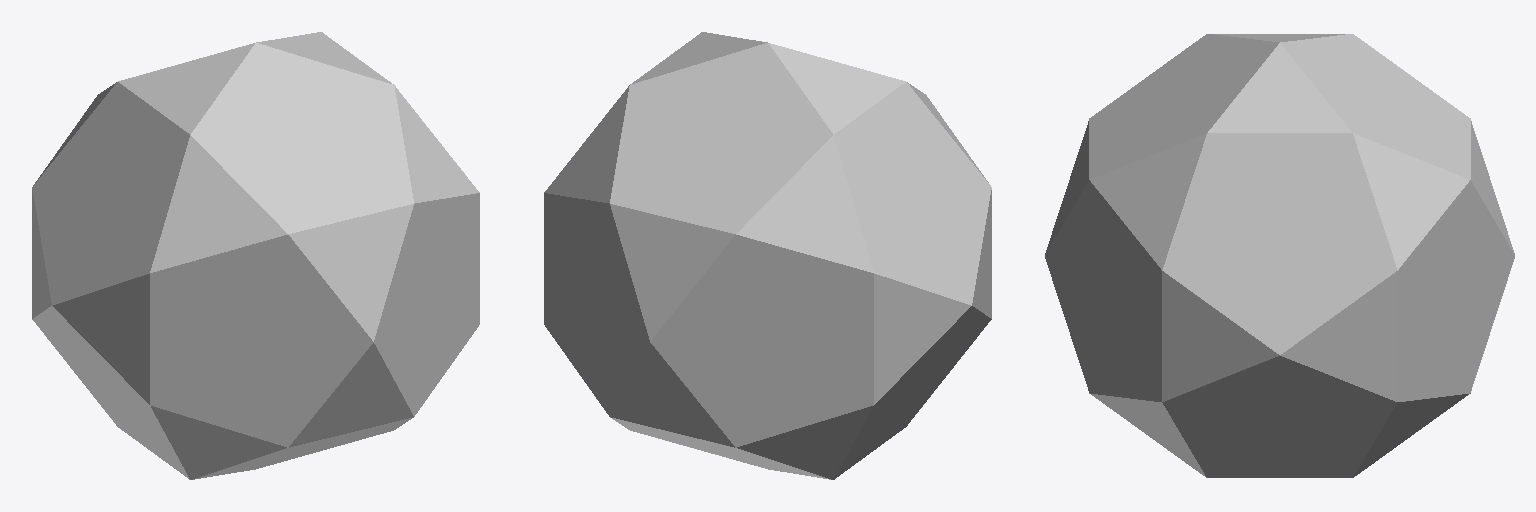
Rendered from bubble.obj.
The picture shows the model from 3 angles: view 1: azimuth 30°, elevation 25°; view 2: azimuth 150°, elevation 25°; view 3: azimuth 270°, elevation 25°; orthographic projection.
Parts seen in each view (by area): view 1: Hedra01; view 2: Hedra01; view 3: Hedra01.
Part boxes in pixels (x1,y1,x2,y2): Hedra01: (32, 32, 479, 479); Hedra01: (544, 32, 991, 479); Hedra01: (1045, 34, 1514, 477).
Size of the model in its own units: 2.54 by 2.54 by 2.54.